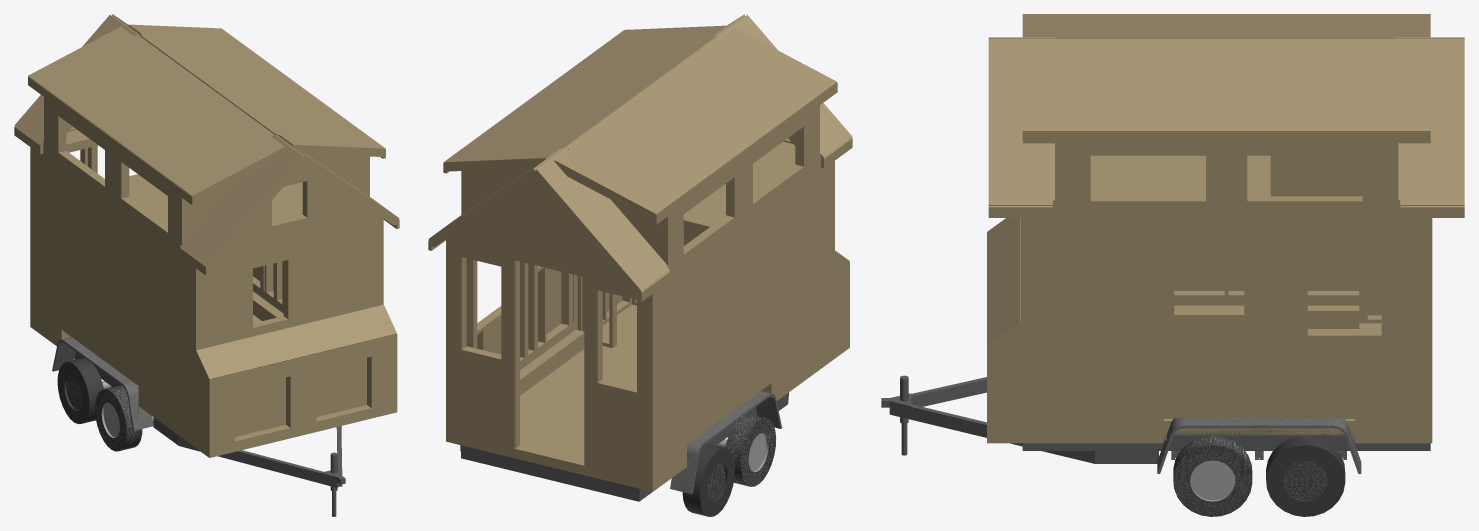
The model's file is tiny.dae.
The picture shows the model from 3 angles, left to right: view 1: azimuth 30°, elevation 25°; view 2: azimuth 150°, elevation 25°; view 3: azimuth 270°, elevation 25°; orthographic projection. The views are drawn at different scales.
Visible parts, largest first — view 1: Dormer_Sheathing (×2), Laft_wall_sheathing, Sheathing, Sheathing_3, Sheathing_2, Dormer_Sheathing_1 (×2), Laft_wall_sheathing_1, Storage_Roof_Sheathing, Dormer_Sheathing_2 (×2), Storage_Sheathing__3, Storage_Sheathing__2, Side_Wall_Top_Sheathing_1 (+17 smaller); view 2: Dormer_Sheathing (×2), Sheathing, Sheathing_3, Laft_wall_sheathing_2, Sheathing_2, Laft_wall_sheathing_3, Dormer_Sheathing_1 (×2), Dormer_Sheathing_2 (×2), Floor_SHeathing_4, Side_Wall_Top_Sheathing, Component_12 (×4), Dormer_Sheathing_3 (×2) (+25 smaller); view 3: Wall_sheathing_23, Wall_sheathing_22, Wall_sheathing_19, Dormer_Sheathing (×2), Dormer_Sheathing_1 (×2), Component_12 (×4), Dormer_Sheathing_2 (×2), Sheathing_3, Side_Roof_Sheathing, Side_Roof_Sheathing_4, top-plate-short-long-wall_4 (×6), Dormer_Sheathing_3 (×2) (+20 smaller).
Boxes of the visible parts, x1,y1,x2,y2 form: Dormer_Sheathing (×2): (28,25,315,145); Laft_wall_sheathing: (289,214,383,411); Sheathing: (140,216,195,447); Sheathing_3: (31,145,85,346); Sheathing_2: (85,176,140,407); Dormer_Sheathing_1 (×2): (123,95,385,196); Laft_wall_sheathing_1: (195,235,289,440); Storage_Roof_Sheathing: (196,304,396,379); Dormer_Sheathing_2 (×2): (164,74,316,160); Storage_Sheathing__3: (209,357,303,457); Storage_Sheathing__2: (303,334,397,434); Side_Wall_Top_Sheathing_1: (229,165,375,249); Dormer_Sheathing (×2): (443,82,760,215); Sheathing: (774,158,834,400); Sheathing_3: (653,236,713,491); Laft_wall_sheathing_2: (446,232,548,466); Sheathing_2: (713,192,773,424); Laft_wall_sheathing_3: (548,255,653,491); Dormer_Sheathing_1 (×2): (548,26,837,138); Dormer_Sheathing_2 (×2): (594,25,761,119); Floor_SHeathing_4: (516,349,636,456); Side_Wall_Top_Sheathing: (456,181,612,270); Component_12 (×4): (682,414,776,516); Dormer_Sheathing_3 (×2): (519,103,655,174); Wall_sheathing_23: (1022,205,1158,443); Wall_sheathing_22: (1158,205,1294,443); Wall_sheathing_19: (1294,205,1430,443); Dormer_Sheathing (×2): (1194,14,1430,132); Dormer_Sheathing_1 (×2): (1022,14,1194,132); Component_12 (×4): (1173,435,1345,516); Dormer_Sheathing_2 (×2): (1022,31,1262,65); Sheathing_3: (1296,155,1381,315); Side_Roof_Sheathing: (988,81,1056,205); Side_Roof_Sheathing_4: (1396,81,1464,205); top-plate-short-long-wall_4 (×6): (1090,156,1270,195); Dormer_Sheathing_3 (×2): (1262,31,1430,65).
Bounding box in the file's own units: 103 × 206 × 163.
